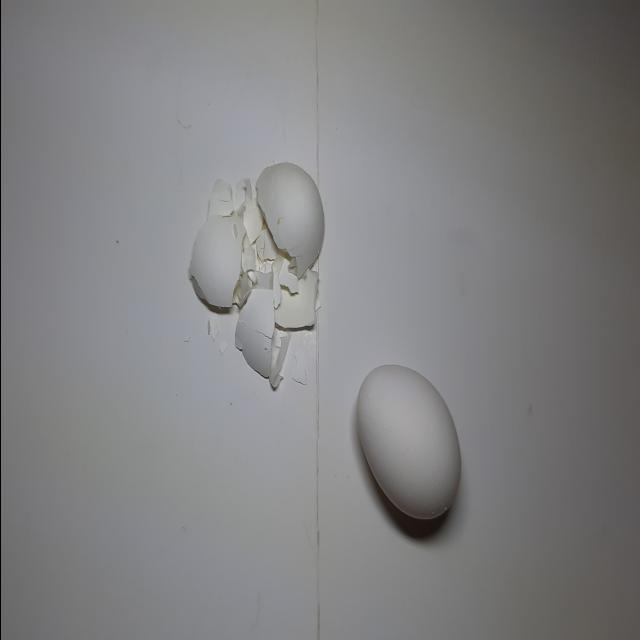egg shell: (350, 356, 464, 531), (250, 155, 328, 276), (228, 264, 287, 391), (190, 212, 244, 311), (274, 264, 324, 334)
